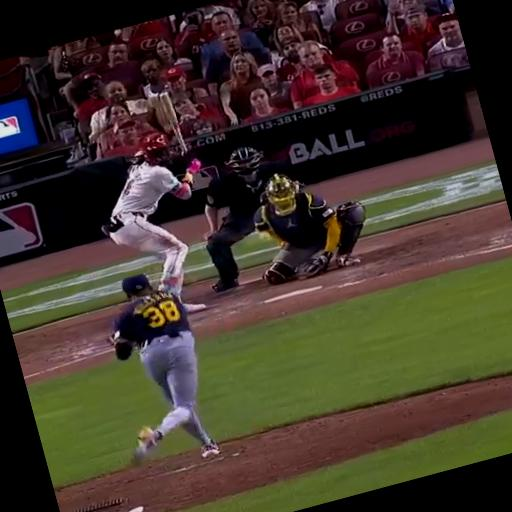bat: (159, 92, 187, 154)
